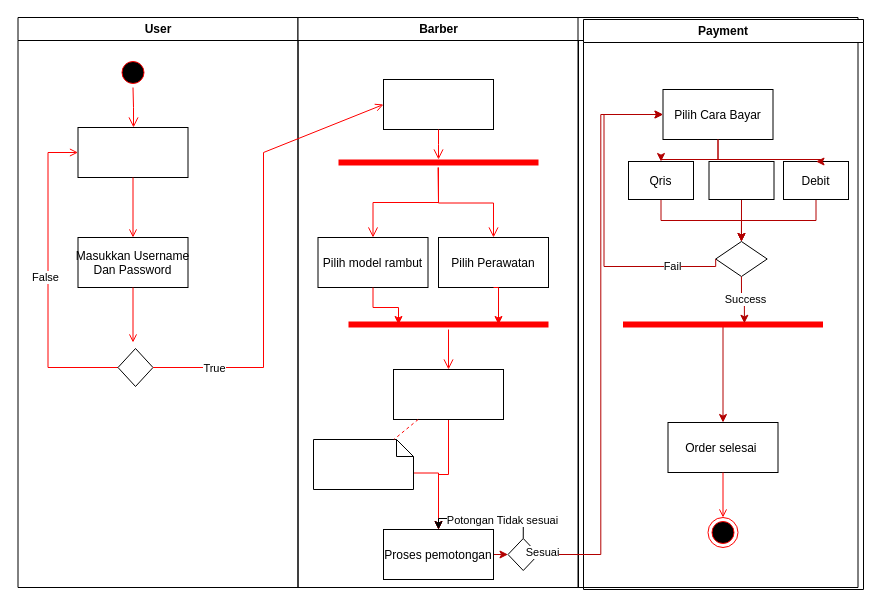
The diagram is 881 pixels wide and 607 high, and some of its shapes have lost their labels. The centre of each missing label's shape, as x and y in pixels:
"+add note to barber" goes at (363,464).
"Cash" goes at (741,180).
"Confirm" goes at (741,258).
"Dashboard" goes at (438,104).
"Login" goes at (132,152).
"Masuk antrian" goes at (448,394).
